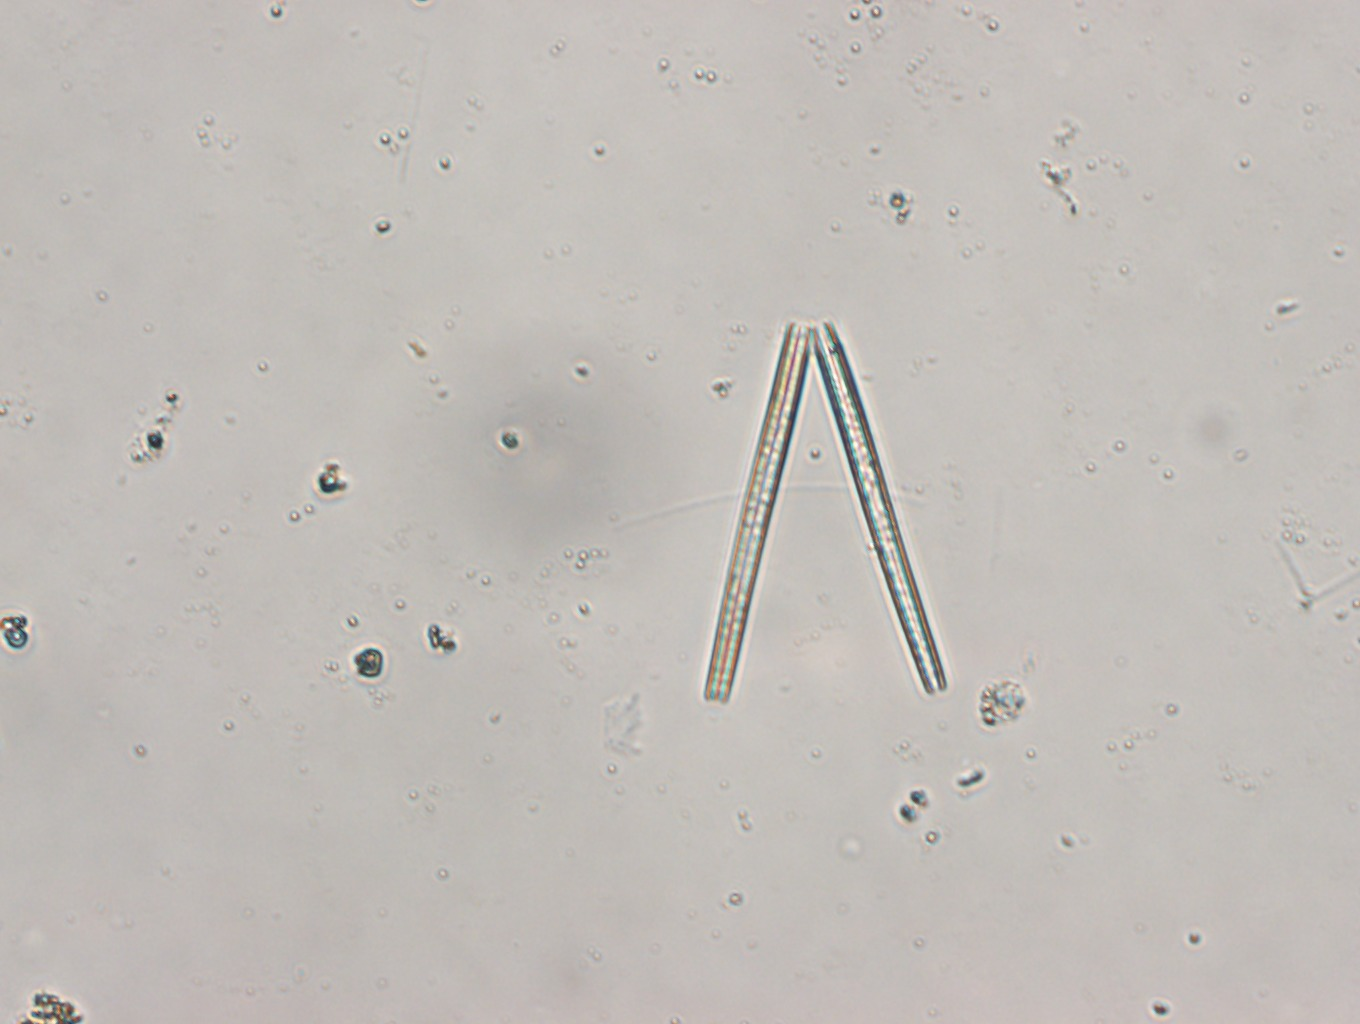thalassionema frauenfeldii: (696, 314, 949, 705)
